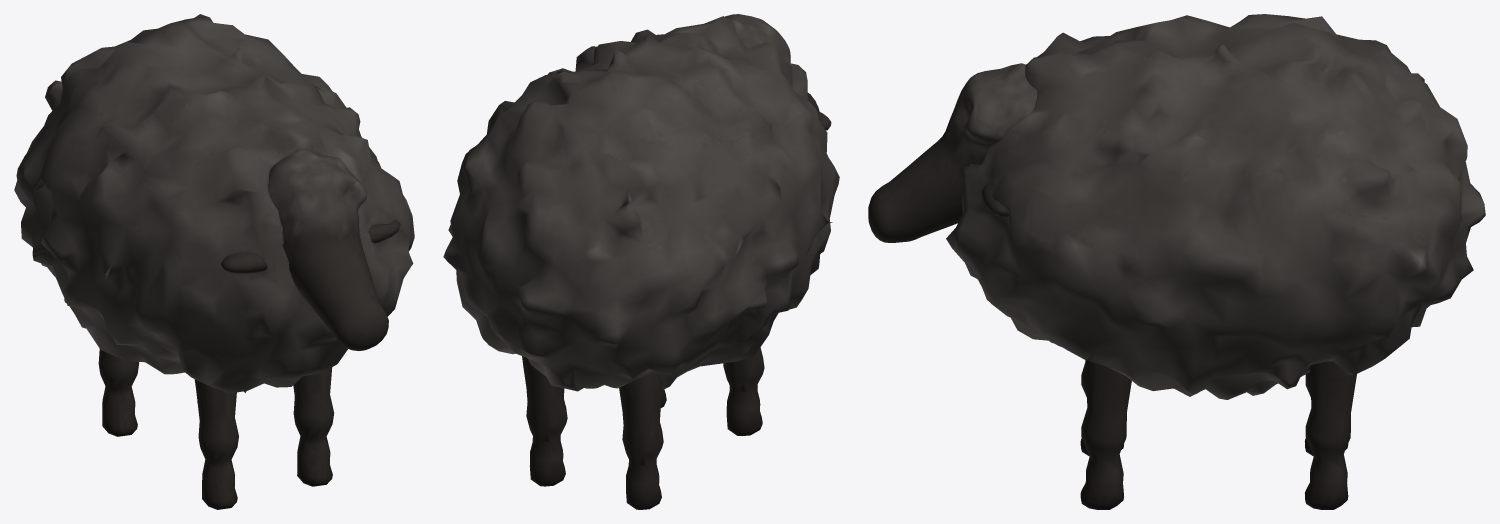
Rendered from animal_karakul.glb.
3 renders of one model, left to right at view 1: azimuth 30°, elevation 25°; view 2: azimuth 150°, elevation 25°; view 3: azimuth 270°, elevation 25°, orthographic. The views are drawn at different scales.
Parts seen in each view (by area): view 1: animal_karakul, head, leg0, leg1, leg2; view 2: animal_karakul, leg2, leg3, leg0, head; view 3: animal_karakul, head, leg3, leg1.
Boxes of the visible parts, <box> form: animal_karakul: <box>14,14,414,393</box>; head: <box>221,149,400,350</box>; leg0: <box>194,379,238,509</box>; leg1: <box>293,367,334,486</box>; leg2: <box>98,349,139,436</box>; animal_karakul: <box>443,16,839,391</box>; leg2: <box>619,373,663,509</box>; leg3: <box>522,356,567,486</box>; leg0: <box>723,347,764,435</box>; head: <box>725,14,831,130</box>; animal_karakul: <box>946,14,1485,399</box>; head: <box>868,63,1037,242</box>; leg3: <box>1304,361,1356,509</box>; leg1: <box>1080,360,1131,509</box>.
Bounding box in the file's own units: 0.3617 × 0.4513 × 0.5511.
Materials: 1 (1 with a texture image).
